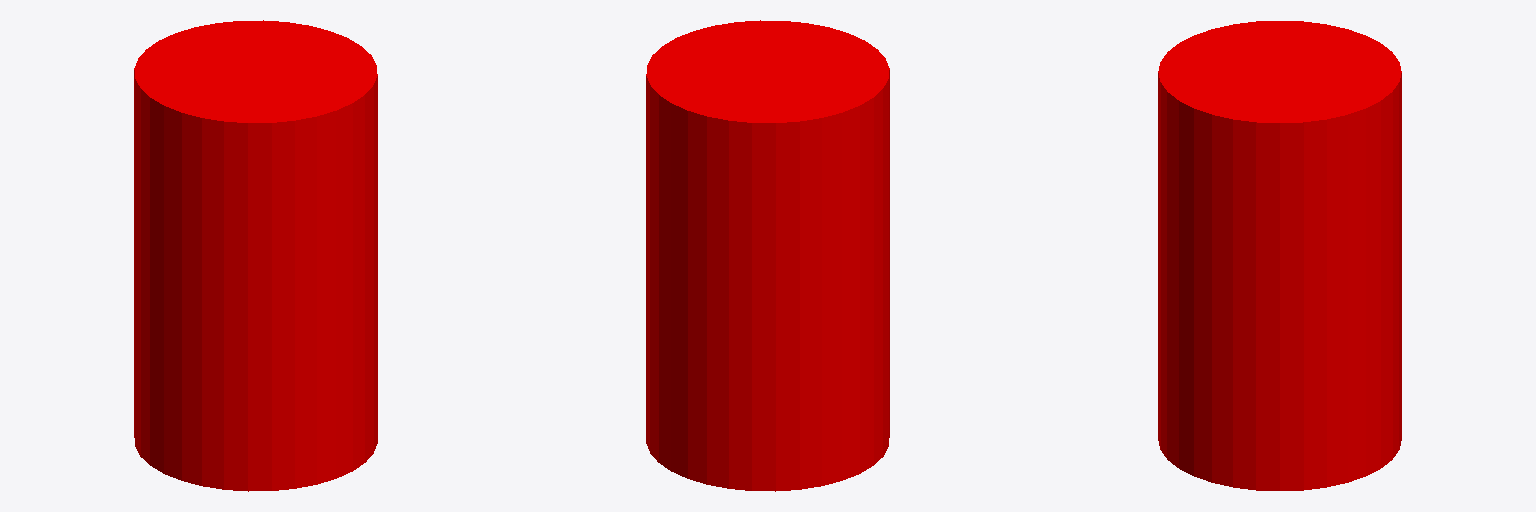
URDF robot description (test):
<?xml version="1.0"?>
<robot name="test">
    <material name="color">
        <color rgba="1.0 0 0 1.0"/>
    </material>

<link name="baseLink">
<inertial>
    <origin xyz="0.0 0.0 0.0" rpy="0.0 0.0 0.0"/>
    <inertia ixx="0.0" ixy="0.0" ixz="0.0" iyy="0.0" iyz="0.0" izz="0.0"/>
    <mass value="0.0"/>
</inertial>
<visual name='cube'>
   <origin xyz="0.0 0.0 0.0" rpy="0.0 0.0 0.0"/>
   <geometry>
       <cylinder radius="3" length="10"/>
   </geometry> 
   <material name="color"/>
</visual>    
</link>
    
</robot>

--- Facts derived from the render (not from the file) ---
3 views of the same robot in one strip: view 1: azimuth 30°, elevation 25°; view 2: azimuth 150°, elevation 25°; view 3: azimuth 270°, elevation 25° (orthographic).
Robot: test — 1 links, 0 joints (none); root link baseLink; default pose: all joints at 0.
Links seen in each view (by area): view 1: baseLink; view 2: baseLink; view 3: baseLink.
Link boxes in pixels (<box>): baseLink: <box>134,20,377,491</box>; baseLink: <box>646,20,889,491</box>; baseLink: <box>1158,21,1401,490</box>.
Size in the robot's own frame: 6 by 6 by 10 metres.
Geometry: primitives only (box / cylinder / sphere), no mesh files.